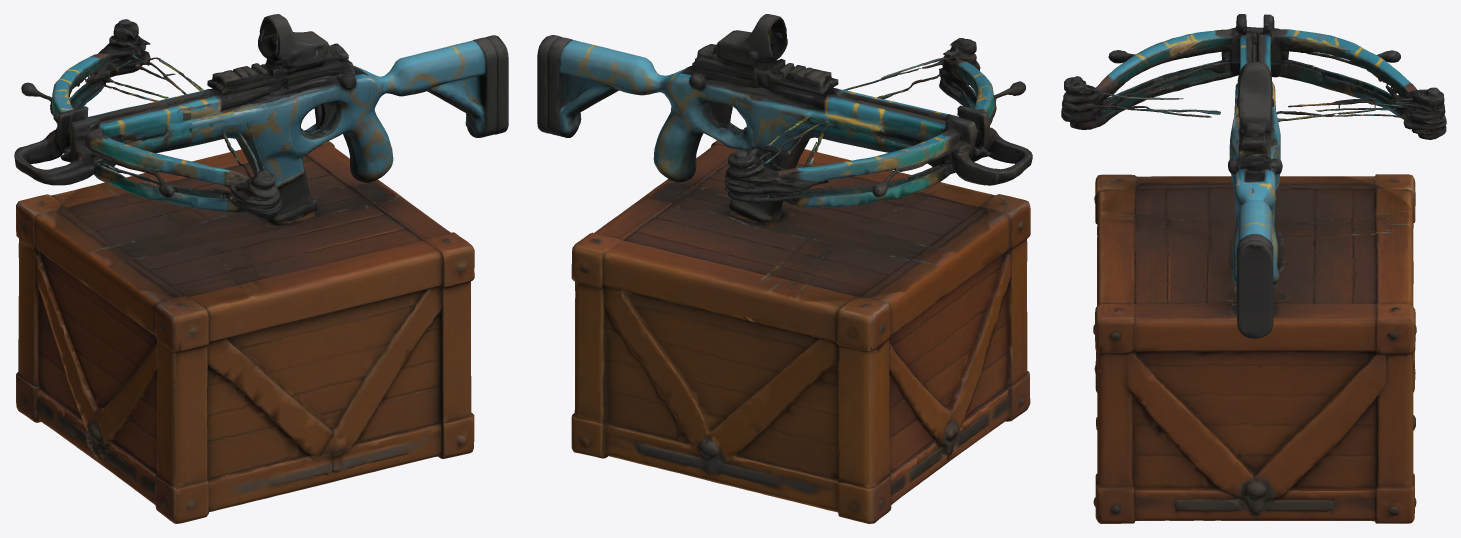
File: Crossbow_in_the_Wild_compressed.glb
The picture shows the model from 3 angles, left to right: view 1: azimuth 30°, elevation 25°; view 2: azimuth 150°, elevation 25°; view 3: azimuth 270°, elevation 25°; orthographic projection.
Size of the model in its own units: 2 by 1.64 by 1.41.
Materials: 1 (1 with a texture image).
